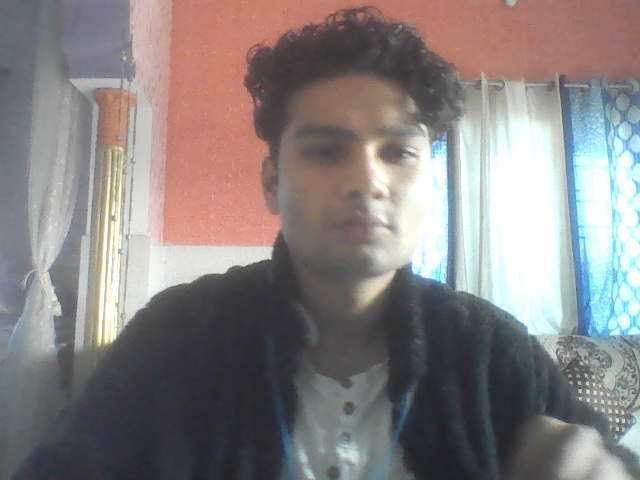real: (246, 12, 446, 295)
